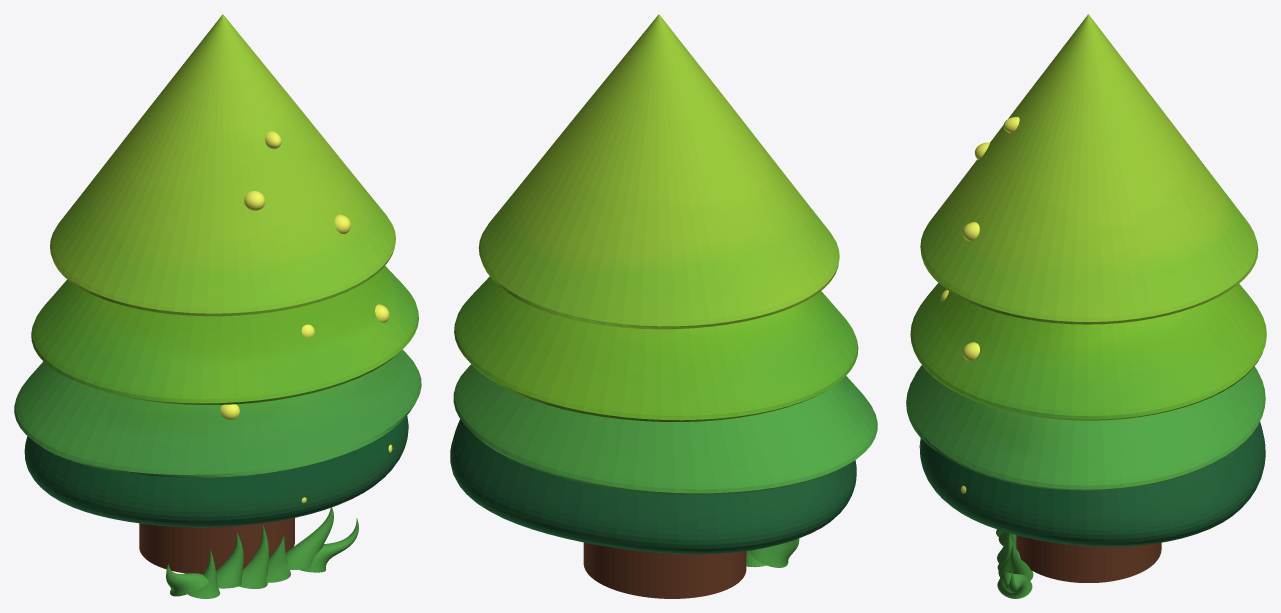
File: tree.glb
3 views of the same model, side by side, from view 1: azimuth 30°, elevation 25°; view 2: azimuth 150°, elevation 25°; view 3: azimuth 270°, elevation 25° (orthographic). The views are drawn at different scales.
Parts seen in each view (by area): view 1: Cone (×2), Cone 1, Cone 2, Cylinder, Tube 5, Tube, Tube 1, Tube 6, Tube 3, Tube 4, Tube 2; view 2: Cone (×2), Cone 1, Cone 2, Cylinder, Tube 3; view 3: Cone (×2), Cone 1, Cone 2, Cylinder, Tube 6, Tube 5.
Boxes of the visible parts, x1,y1,x2,y2 form: Cone (×2): [24, 14, 408, 527]; Cone 1: [31, 266, 418, 404]; Cone 2: [14, 349, 421, 477]; Cylinder: [139, 518, 294, 574]; Tube 5: [285, 507, 333, 569]; Tube: [239, 524, 268, 588]; Tube 1: [216, 532, 243, 588]; Tube 6: [299, 518, 358, 572]; Tube 3: [166, 564, 208, 596]; Tube 4: [266, 535, 290, 582]; Tube 2: [188, 549, 219, 598]; Cone (×2): [450, 14, 856, 554]; Cone 1: [454, 276, 858, 421]; Cone 2: [453, 364, 877, 494]; Cylinder: [583, 542, 746, 598]; Tube 3: [749, 538, 799, 567]; Cone (×2): [920, 14, 1265, 546]; Cone 1: [910, 283, 1266, 420]; Cone 2: [906, 365, 1265, 490]; Cylinder: [1016, 535, 1161, 582]; Tube 6: [997, 571, 1032, 598]; Tube 5: [998, 540, 1033, 580].
Size of the model in its own units: 0.9887 by 1.4 by 0.8258.
